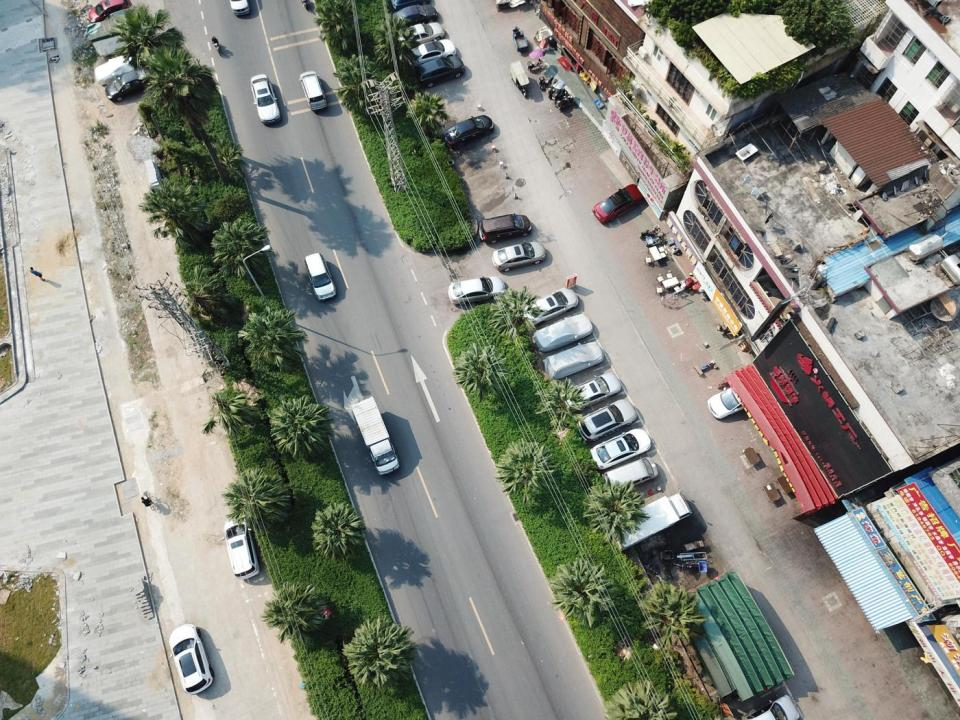car: (168, 623, 214, 695), (575, 398, 638, 442), (589, 428, 652, 470), (221, 515, 260, 580), (562, 372, 621, 412), (533, 312, 592, 352), (522, 286, 578, 326), (545, 342, 604, 379), (592, 184, 646, 224), (706, 383, 761, 420), (447, 275, 505, 306), (492, 240, 546, 272), (443, 115, 494, 148), (415, 55, 465, 88), (105, 66, 151, 101), (741, 694, 800, 720), (406, 38, 457, 68), (250, 74, 281, 123), (94, 53, 140, 85), (400, 21, 446, 48), (392, 4, 438, 28), (87, 0, 133, 23)
truck: (612, 488, 698, 552), (351, 396, 401, 476)
van: (602, 456, 658, 492), (479, 212, 532, 243), (304, 252, 336, 301), (299, 71, 327, 111)
